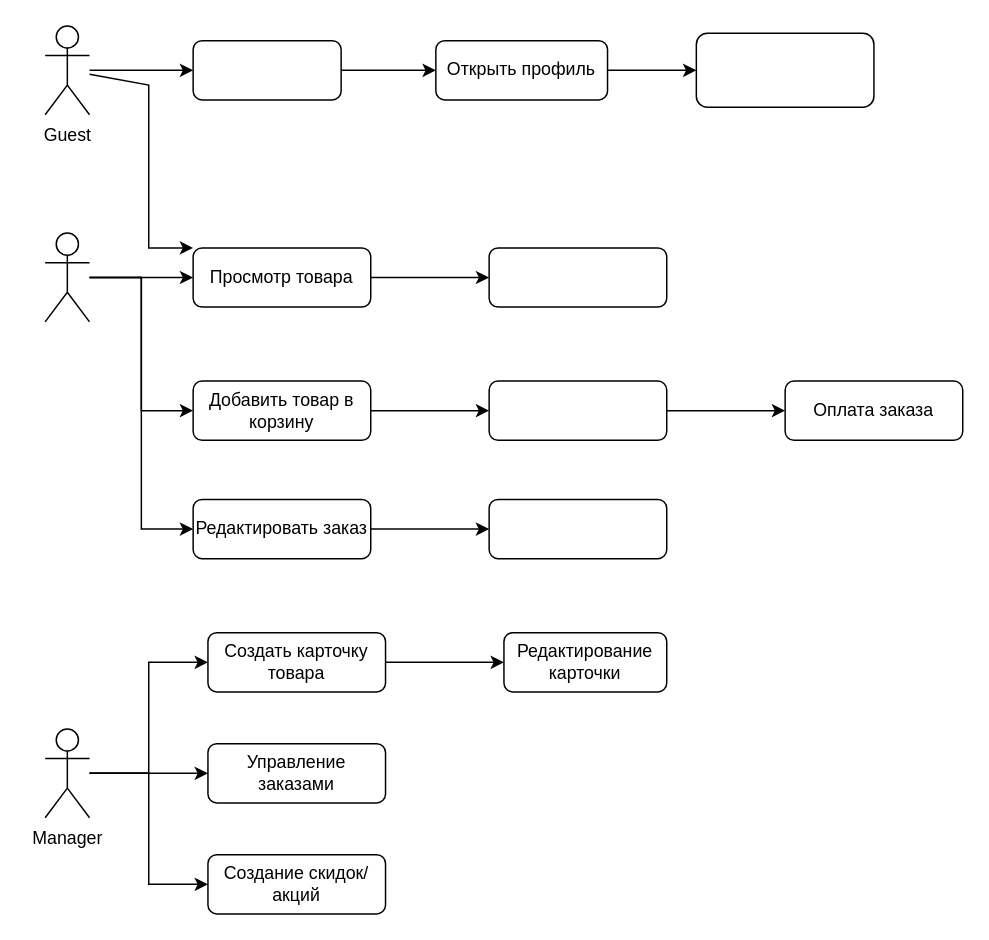
Image size: 989x940. Some labels were removed from this diagram. The shapes that lost their labels are listed below. From the top down, each one's box as (x1, y1, x2, y2) in pixels, then its label:
(192, 39, 341, 100): Login/registration
(695, 32, 874, 107): Редактировать профиль
(44, 232, 90, 322): Authorized
(488, 246, 667, 307): Раскрыть товар для доп инфо
(488, 380, 667, 440): Оформить заказ
(488, 498, 667, 559): Отменить заказ
